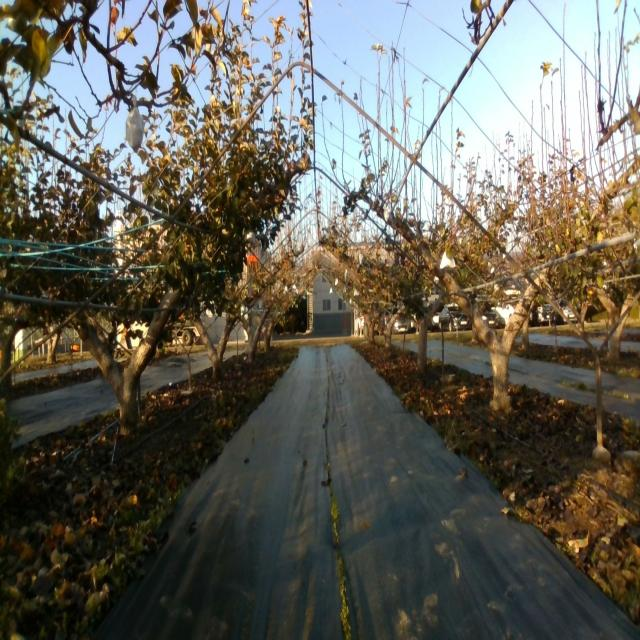pearbags: (126, 96, 144, 154), (439, 250, 456, 270), (244, 225, 256, 248), (383, 206, 394, 224)
